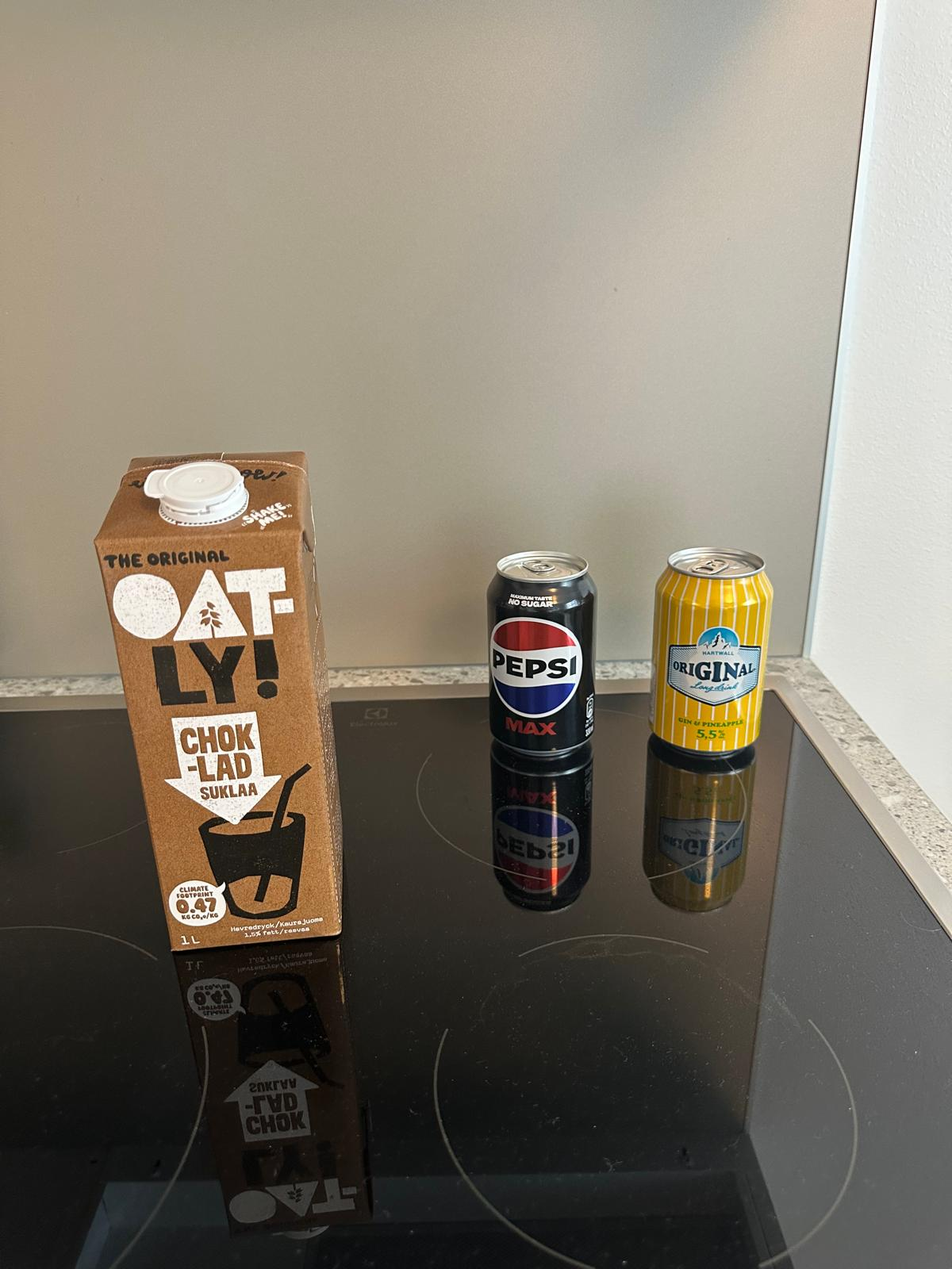Dryckeskartong: (91, 450, 345, 952)
Pantburk: (652, 547, 776, 758), (485, 551, 598, 758)
